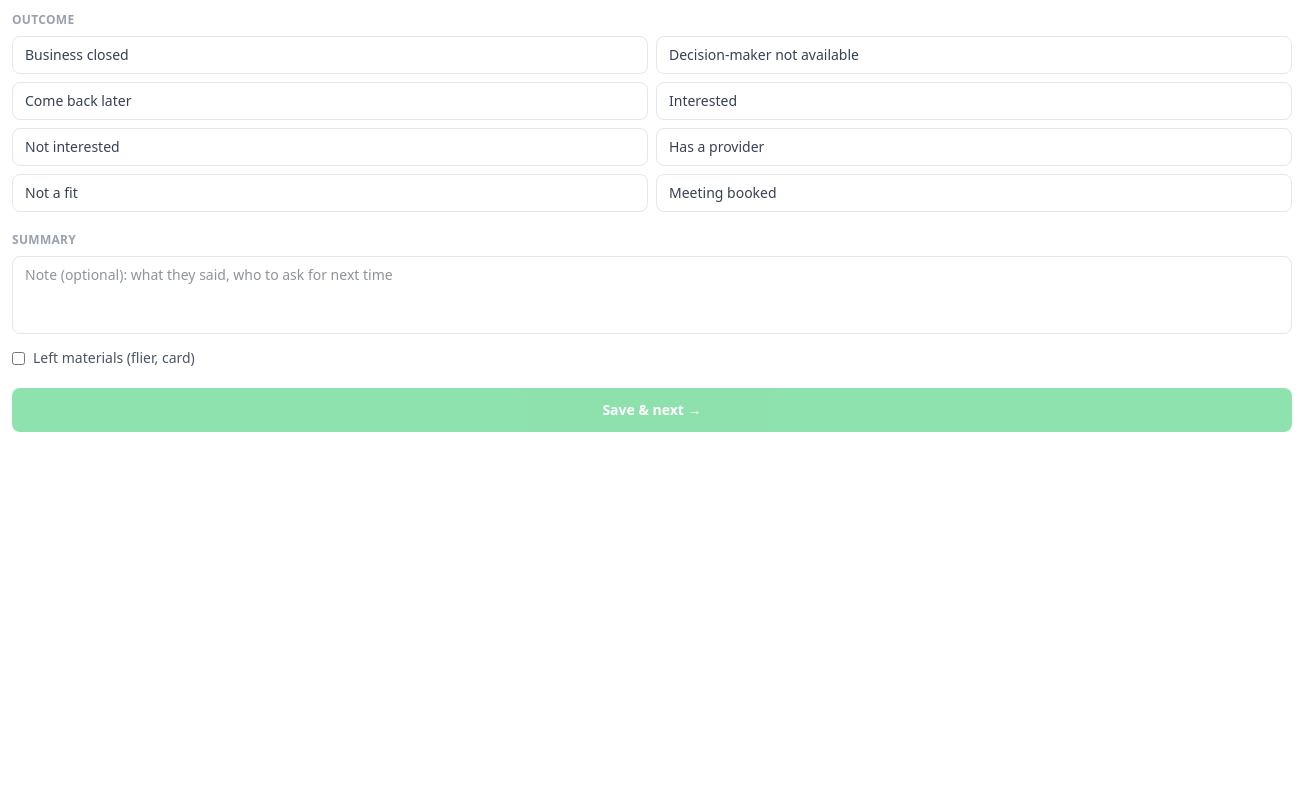
Test case: LogVisitForm: going back › offers a time to go back with Decision-maker not available
This screenshot has width=1304, height=812.
Click the button "Decision-maker not available": (764, 54) 656,36 -> 1292,74
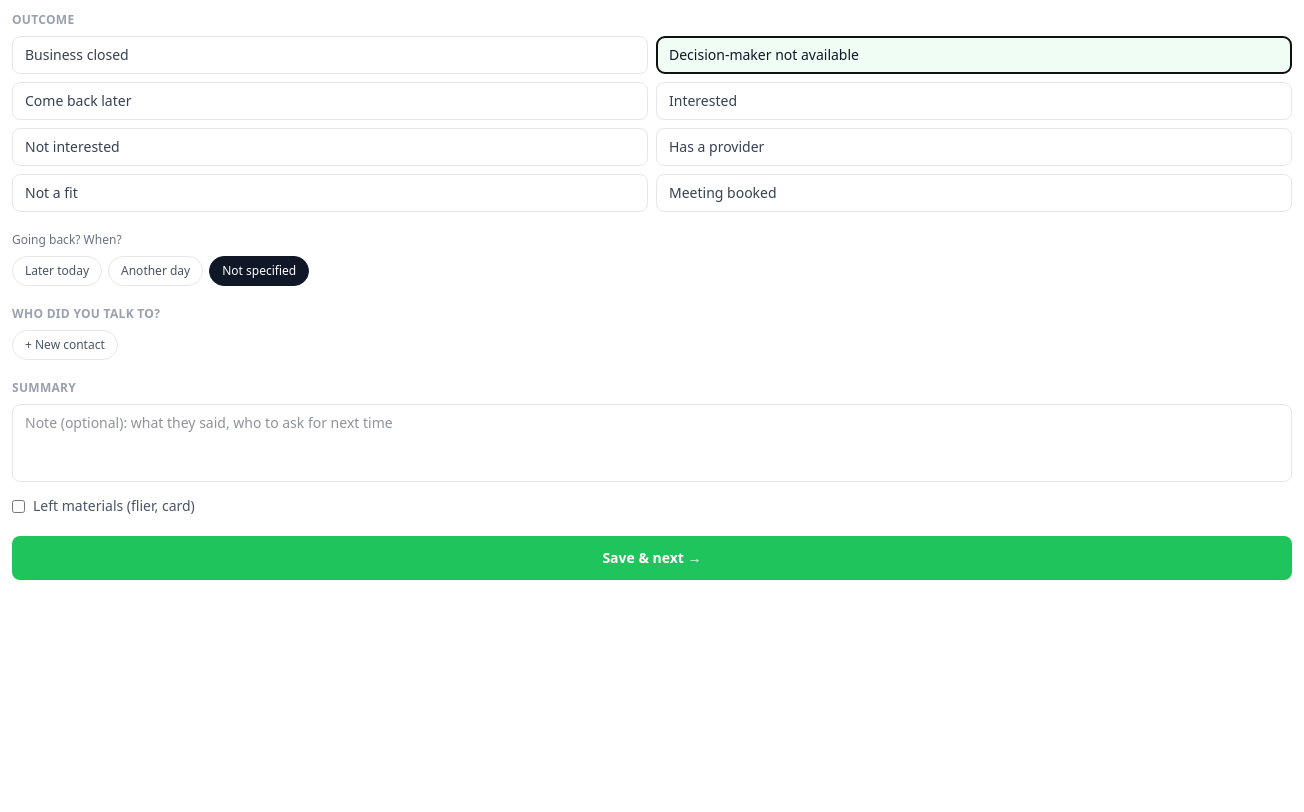
Expected: the text "Going back? When?" is shown, 12,231 -> 122,248
Expected: the button "Later today" is shown, 12,256 -> 102,286
